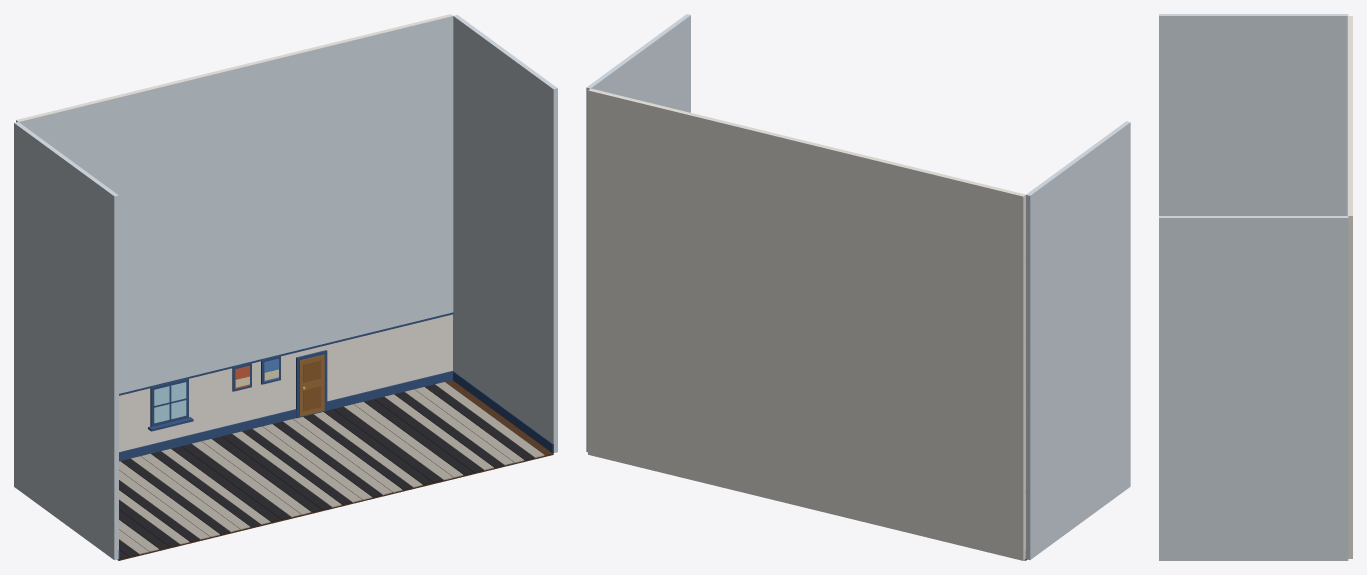
The model's file is room_holanda_wood.glb.
The picture shows the model from 3 angles, left to right: view 1: azimuth 30°, elevation 25°; view 2: azimuth 150°, elevation 25°; view 3: azimuth 270°, elevation 25°; orthographic projection. The views are drawn at different scales.
Visible parts, largest first — view 1: room; view 2: room; view 3: room.
Boxes of the visible parts, bbox=[...] form: room: bbox=[14, 14, 557, 560]; room: bbox=[586, 14, 1130, 560]; room: bbox=[1159, 14, 1352, 560].
Bounding box in the file's own units: 30.6 × 24.11 × 12.3.
